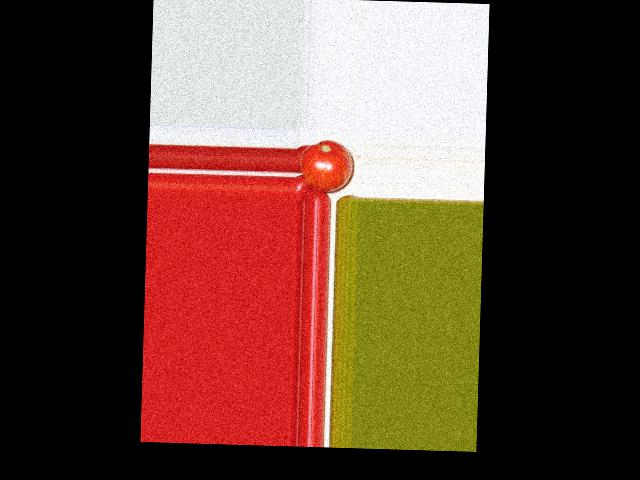tomato: (299, 139, 353, 193)
